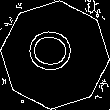O_E: (27, 31, 83, 79)
